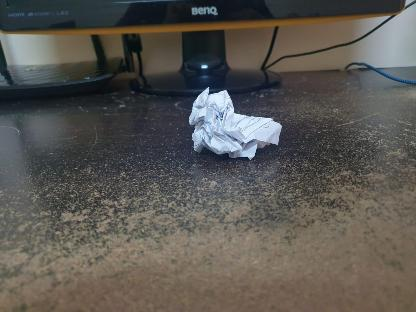Paper: (186, 87, 288, 161)
